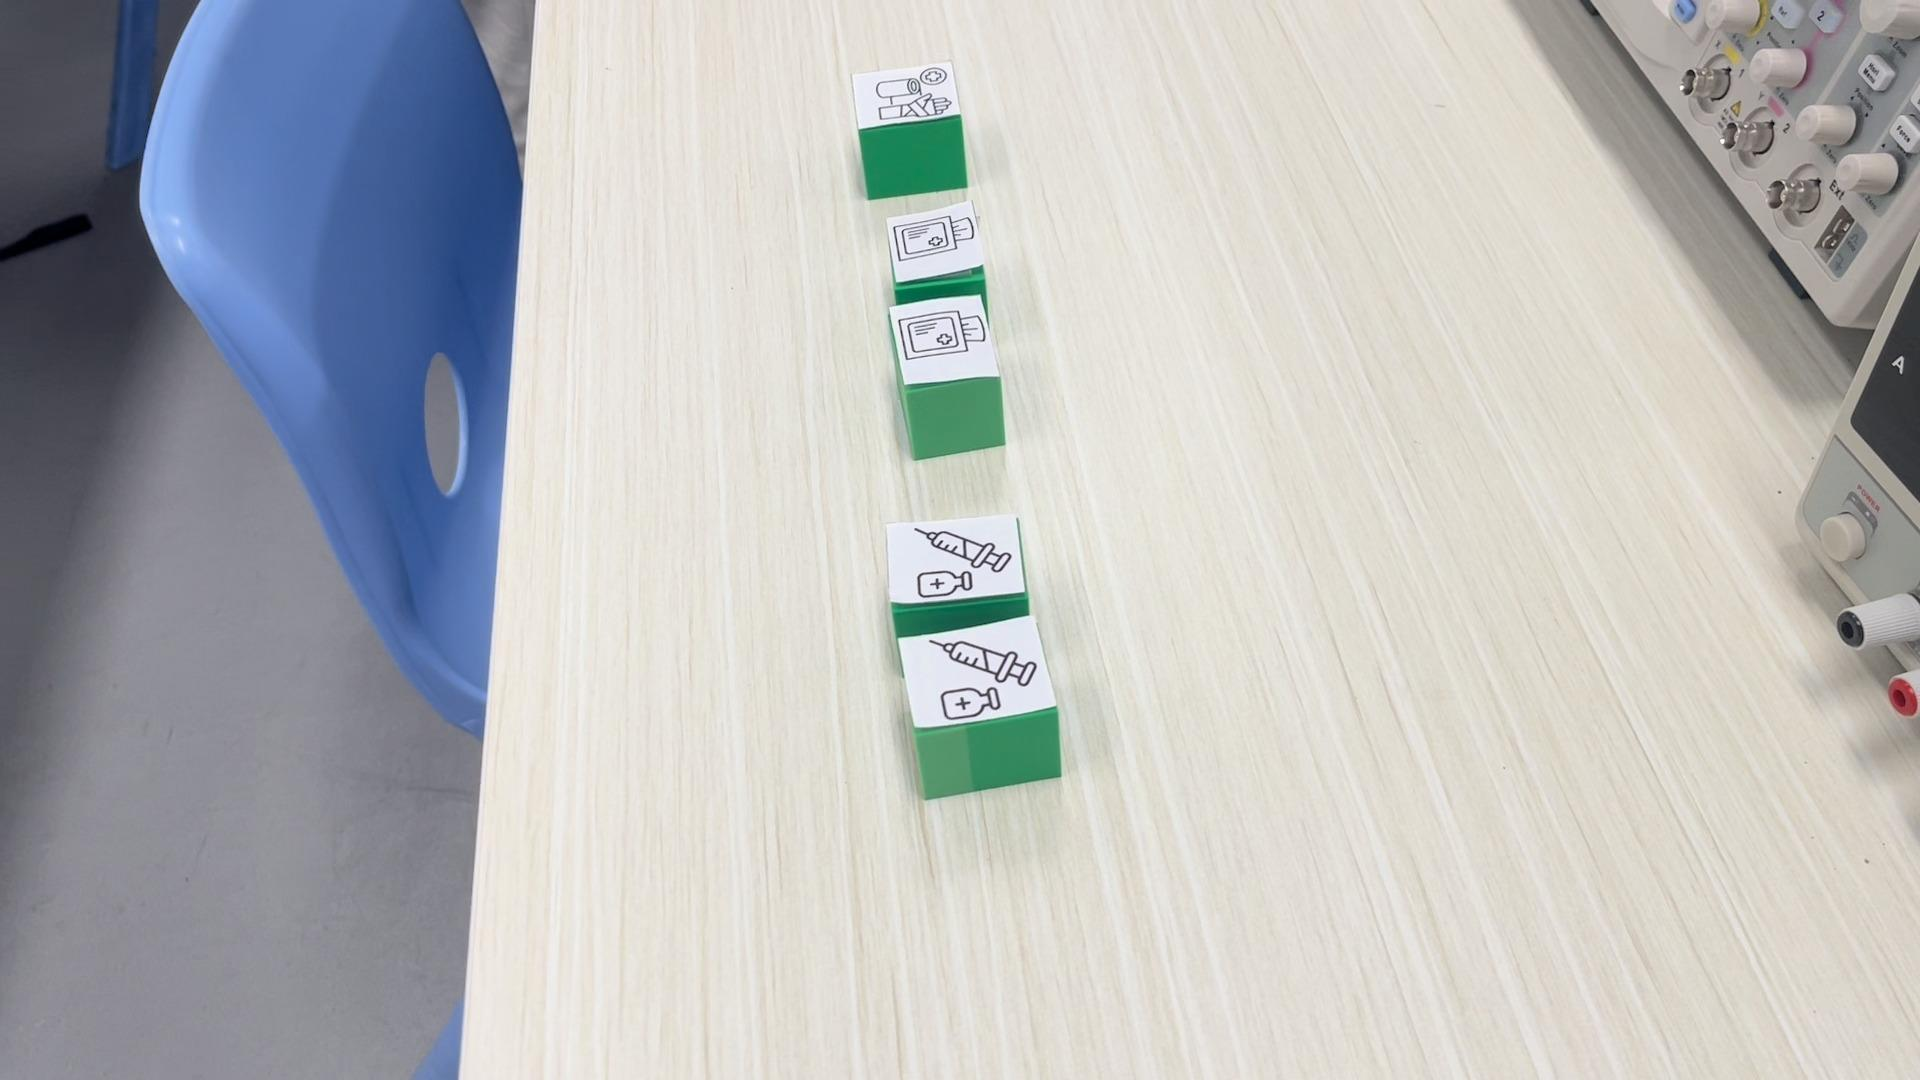Bandages: (848, 58, 971, 198)
Gauze: (891, 293, 1004, 462), (885, 194, 988, 294)
antiseptic cream: (895, 613, 1064, 803), (886, 512, 1033, 637)
